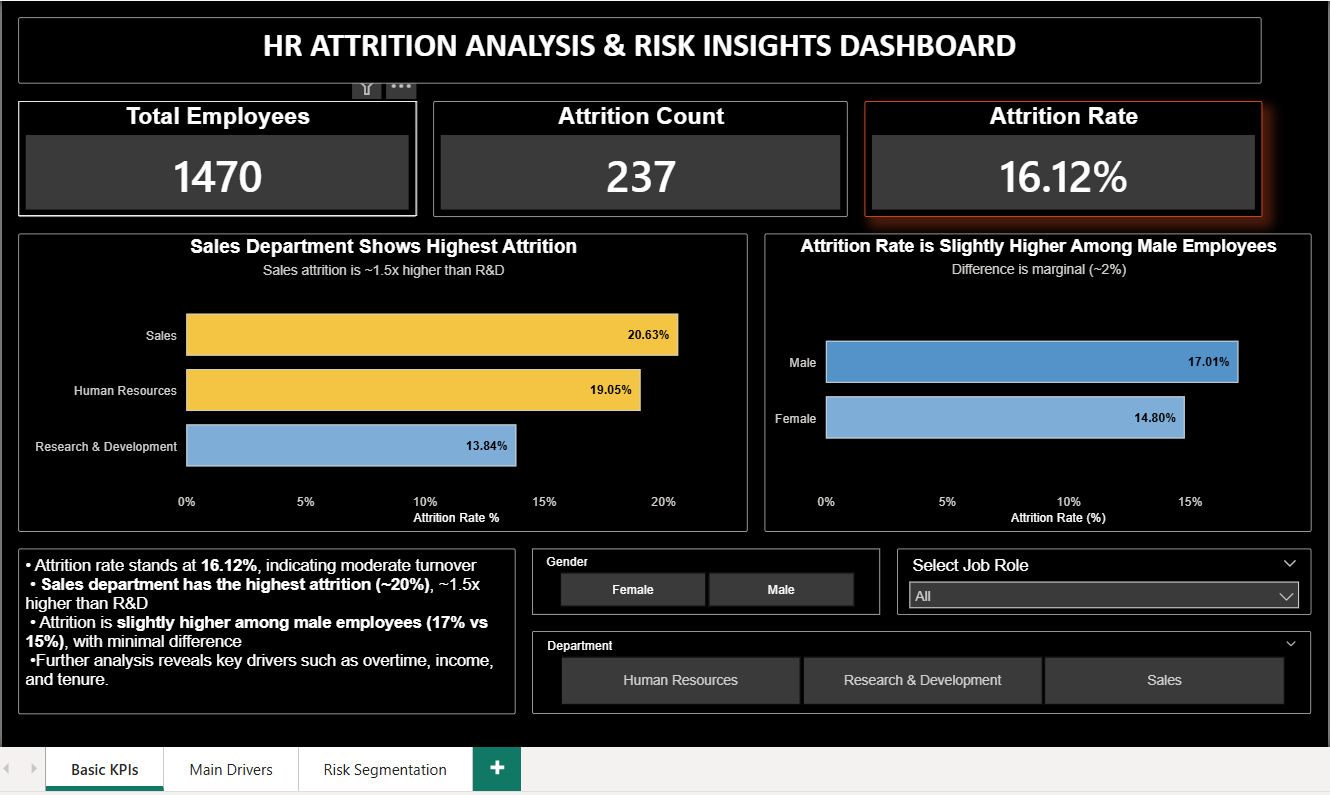

This screenshot's page, from the dashboard's own definition file:
{"tool":"powerbi","page":{"name":"Basic KPIs","canvas":[1280,720],"ordinal":0},"visuals":[{"type":"cardVisual","title":"Attrition Count","fields":{"Data":["HR-Employee-Attrition.Attrition Count"]},"box":[416,96,400,112],"z":0},{"type":"cardVisual","title":"Attrition Rate","fields":{"Data":["HR-Employee-Attrition.Attrition Rate %"]},"box":[832,96,384,112],"z":1000},{"type":"cardVisual","title":"Total Employees","fields":{"Data":["HR-Employee-Attrition.Total Employees"]},"box":[16,96,384,112],"z":2000},{"type":"clusteredBarChart","title":"Attrition Rate is Slightly Higher Among Male Employees","fields":{"Category":["HR-Employee-Attrition.Gender"],"Y":["HR-Employee-Attrition.Attrition Rate by Gender"]},"box":[736,224,528,288],"z":3000},{"type":"clusteredBarChart","title":"Sales Department Shows Highest Attrition","fields":{"Y":["HR-Employee-Attrition.Attrition Rate %"],"Category":["HR-Employee-Attrition.Department"]},"box":[16,224,704,288],"z":4000},{"type":"slicer","fields":{"Values":["HR-Employee-Attrition.JobRole"]},"box":[864,528,400,64],"z":5000},{"type":"slicer","fields":{"Values":["HR-Employee-Attrition.Gender"]},"box":[512,528,336,64],"z":6000},{"type":"slicer","fields":{"Values":["HR-Employee-Attrition.Department"]},"box":[512,608,752,80],"z":7000},{"type":"textbox","box":[16,528,480,160],"z":8000},{"type":"textbox","box":[16,16,1200,64],"z":9000}]}

Visuals, with their boxes in screenshot pixels (x1, y1, x2, y2):
"Attrition Count" cardVisual: box(425, 116, 850, 235)
"Attrition Rate" cardVisual: box(867, 116, 1275, 235)
"Total Employees" cardVisual: box(0, 116, 408, 235)
"Attrition Rate is Slightly Higher Among Male Employees" clusteredBarChart: box(765, 252, 1326, 558)
"Sales Department Shows Highest Attrition" clusteredBarChart: box(0, 252, 748, 558)
slicer - HR-Employee-Attrition.JobRole: box(901, 575, 1326, 643)
slicer - HR-Employee-Attrition.Gender: box(527, 575, 884, 643)
slicer - HR-Employee-Attrition.Department: box(527, 660, 1326, 745)
textbox: box(0, 575, 510, 745)
textbox: box(0, 31, 1275, 99)
